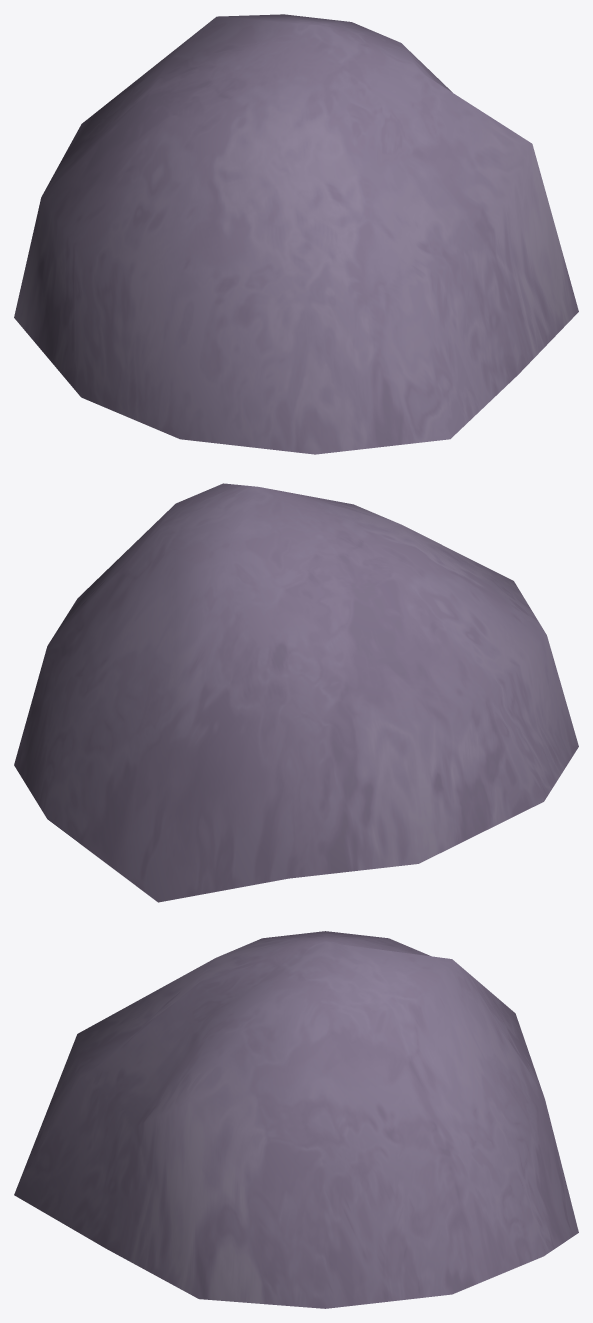
Rendered from rock.FBX.
3 views of the same model, one above another, from view 1: azimuth 30°, elevation 25°; view 2: azimuth 150°, elevation 25°; view 3: azimuth 270°, elevation 25° (orthographic). The views are drawn at different scales.
Parts seen in each view (by area): view 1: Sphere002; view 2: Sphere002; view 3: Sphere002.
Boxes of the visible parts, left/top/right/bottom form: Sphere002: left=14, top=14, right=578, bottom=454; Sphere002: left=14, top=483, right=578, bottom=902; Sphere002: left=14, top=931, right=578, bottom=1308.
Size of the model in its own units: 41.2 by 26.49 by 44.55.
Materials: 1 (1 with a texture image).
